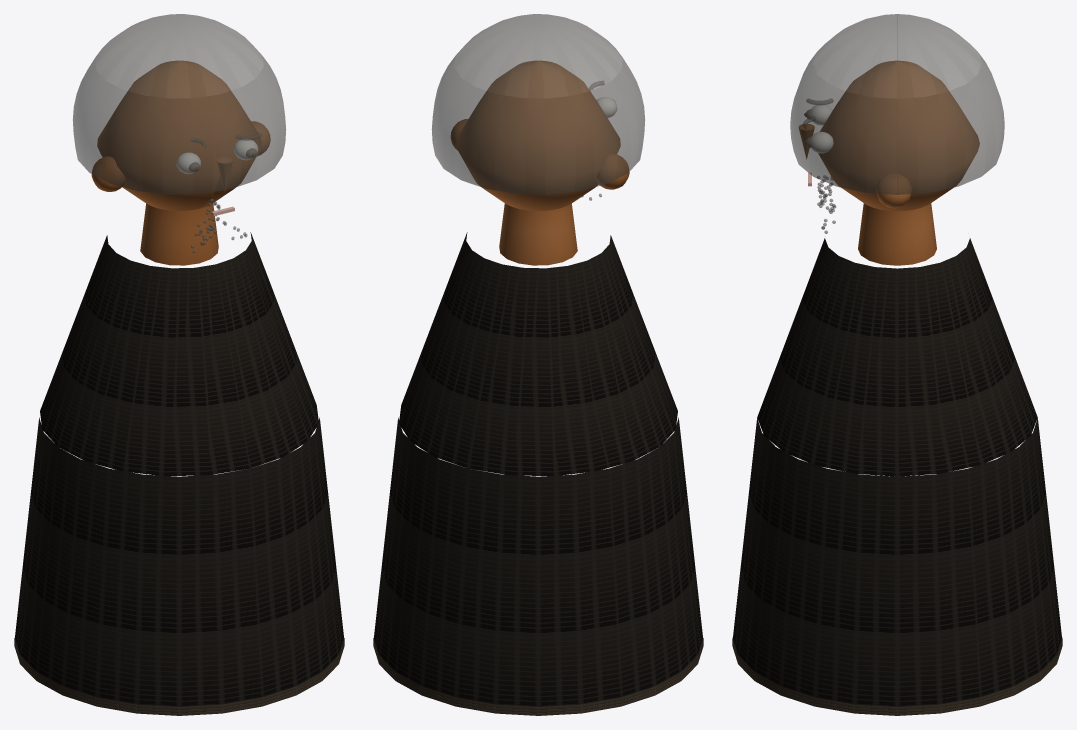
The model's file is peter_restored.glb.
The picture shows the model from 3 angles, left to right: view 1: azimuth 30°, elevation 25°; view 2: azimuth 150°, elevation 25°; view 3: azimuth 270°, elevation 25°; orthographic projection.
Visible parts, largest first — view 1: Character_peter_restored, head; view 2: Character_peter_restored, head; view 3: Character_peter_restored, head.
Boxes of the visible parts, <box> form: Character_peter_restored: <box>14,14,344,715</box>; head: <box>97,61,261,210</box>; Character_peter_restored: <box>373,14,703,715</box>; head: <box>456,61,620,210</box>; Character_peter_restored: <box>732,14,1062,715</box>; head: <box>818,61,979,211</box>.
Bounding box in the file's own units: 0.8649 × 1.8 × 0.8649.
8 materials, 4 textured.
